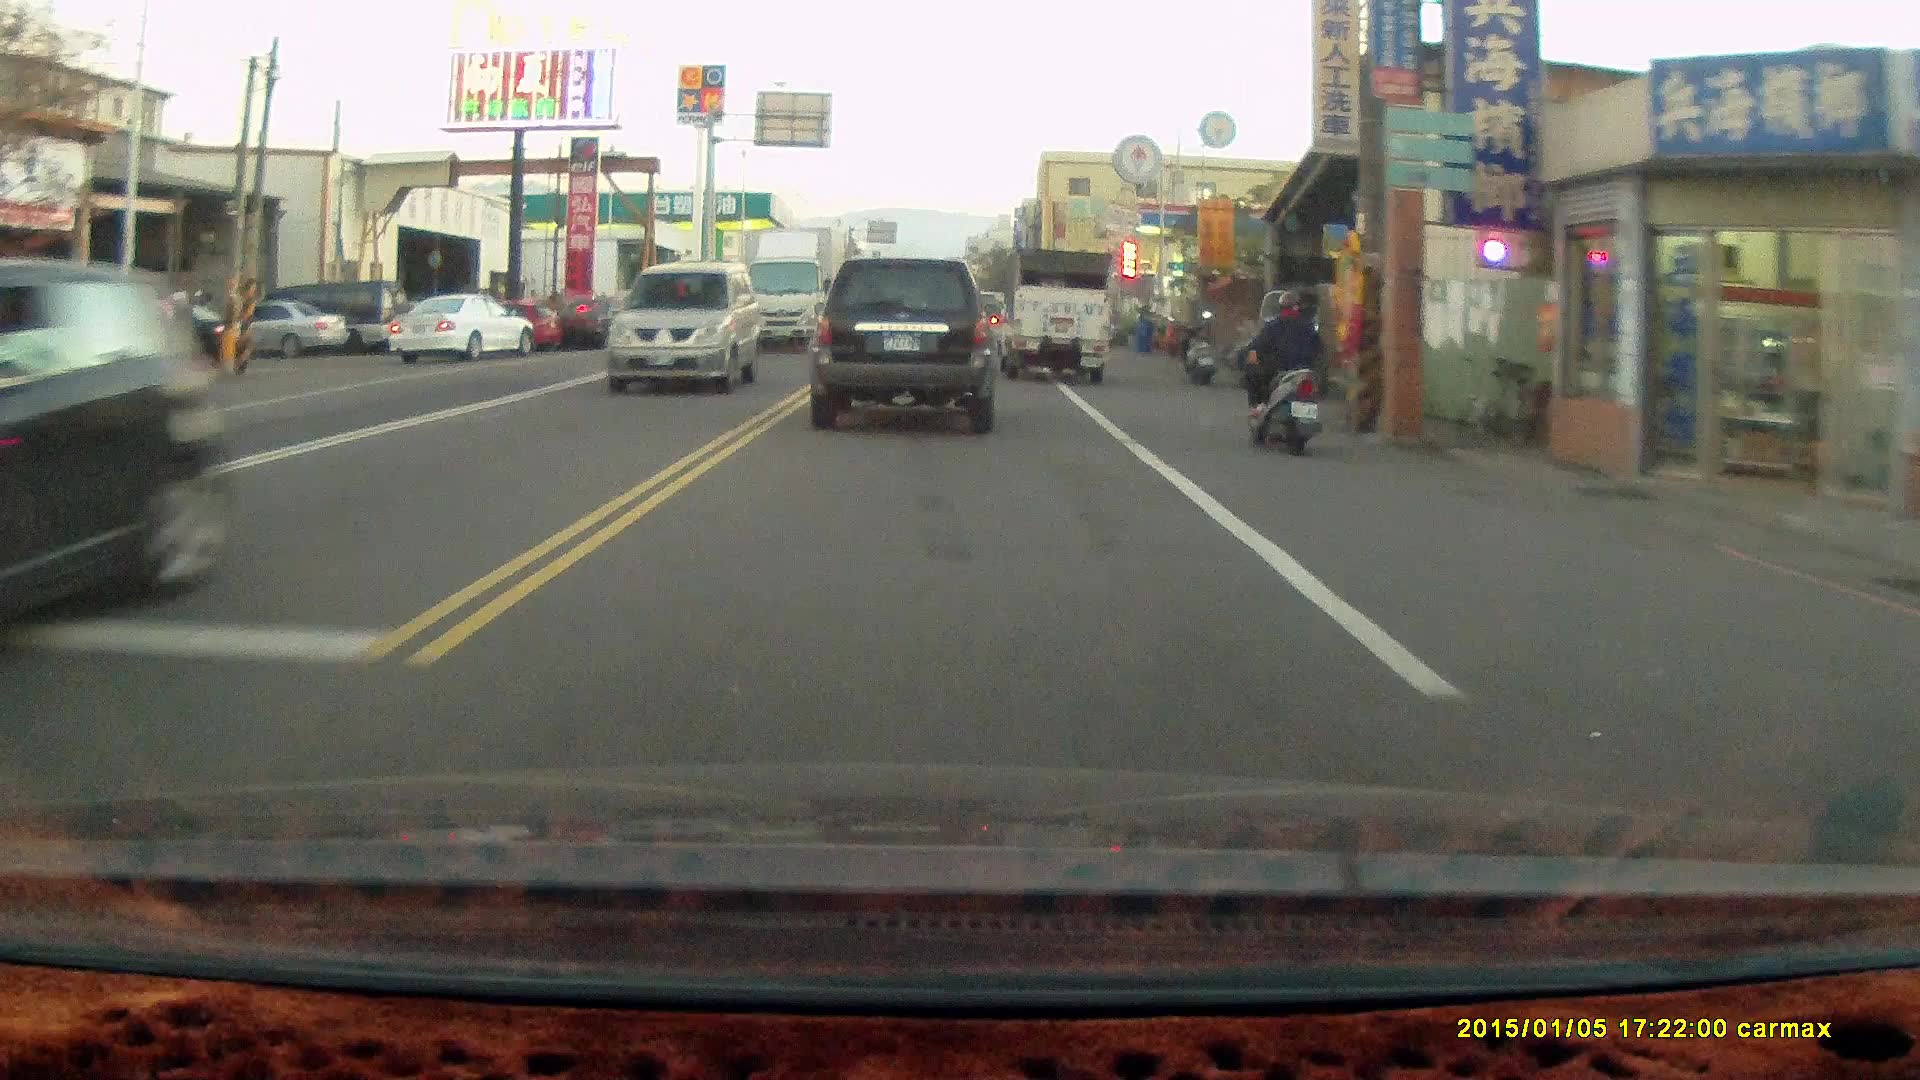rider: (1231, 288, 1325, 457)
vehicle: (1, 258, 237, 666), (806, 256, 998, 434), (605, 261, 762, 392), (994, 245, 1110, 383), (388, 295, 536, 362), (224, 302, 350, 361)
